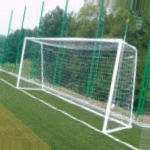goals: (15, 34, 136, 135)
